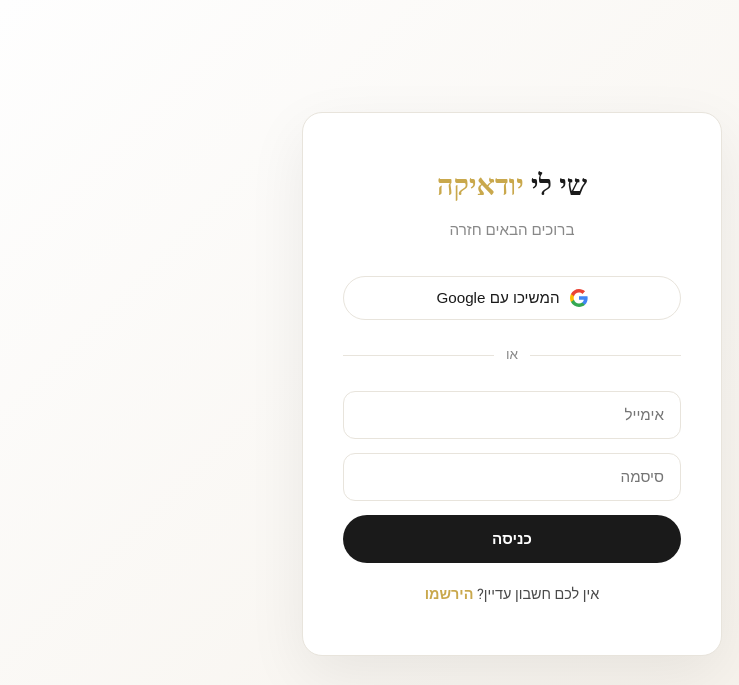
LoginPage › switches to sign-up mode when toggle is clicked
Click the button "הירשמו": point(449, 594) top-left (425, 584), bottom-right (474, 605)
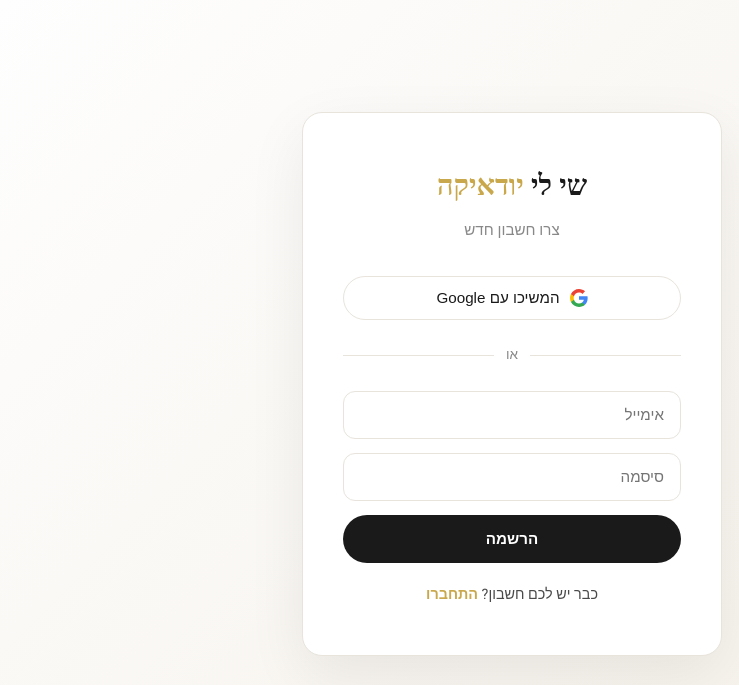
Result: the button "הרשמה" is shown at top-left (343, 515), bottom-right (681, 563)
